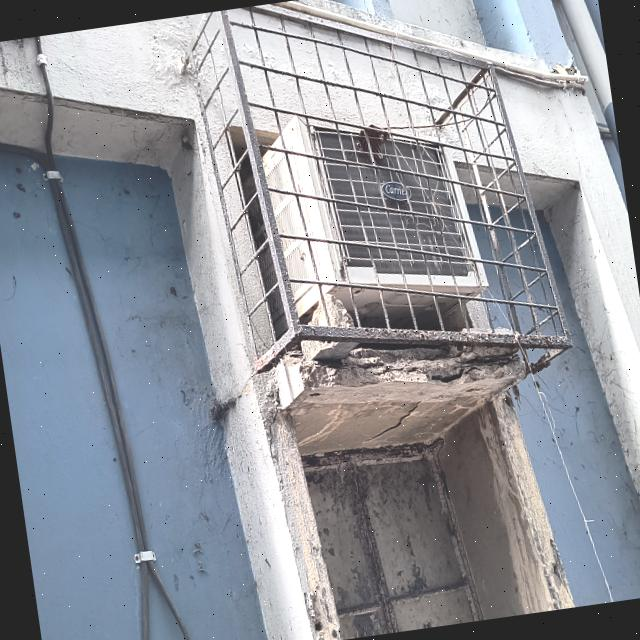crack: (357, 401, 427, 449), (265, 405, 283, 474)
peeling: (529, 46, 599, 112)
spalling: (265, 336, 530, 415)
